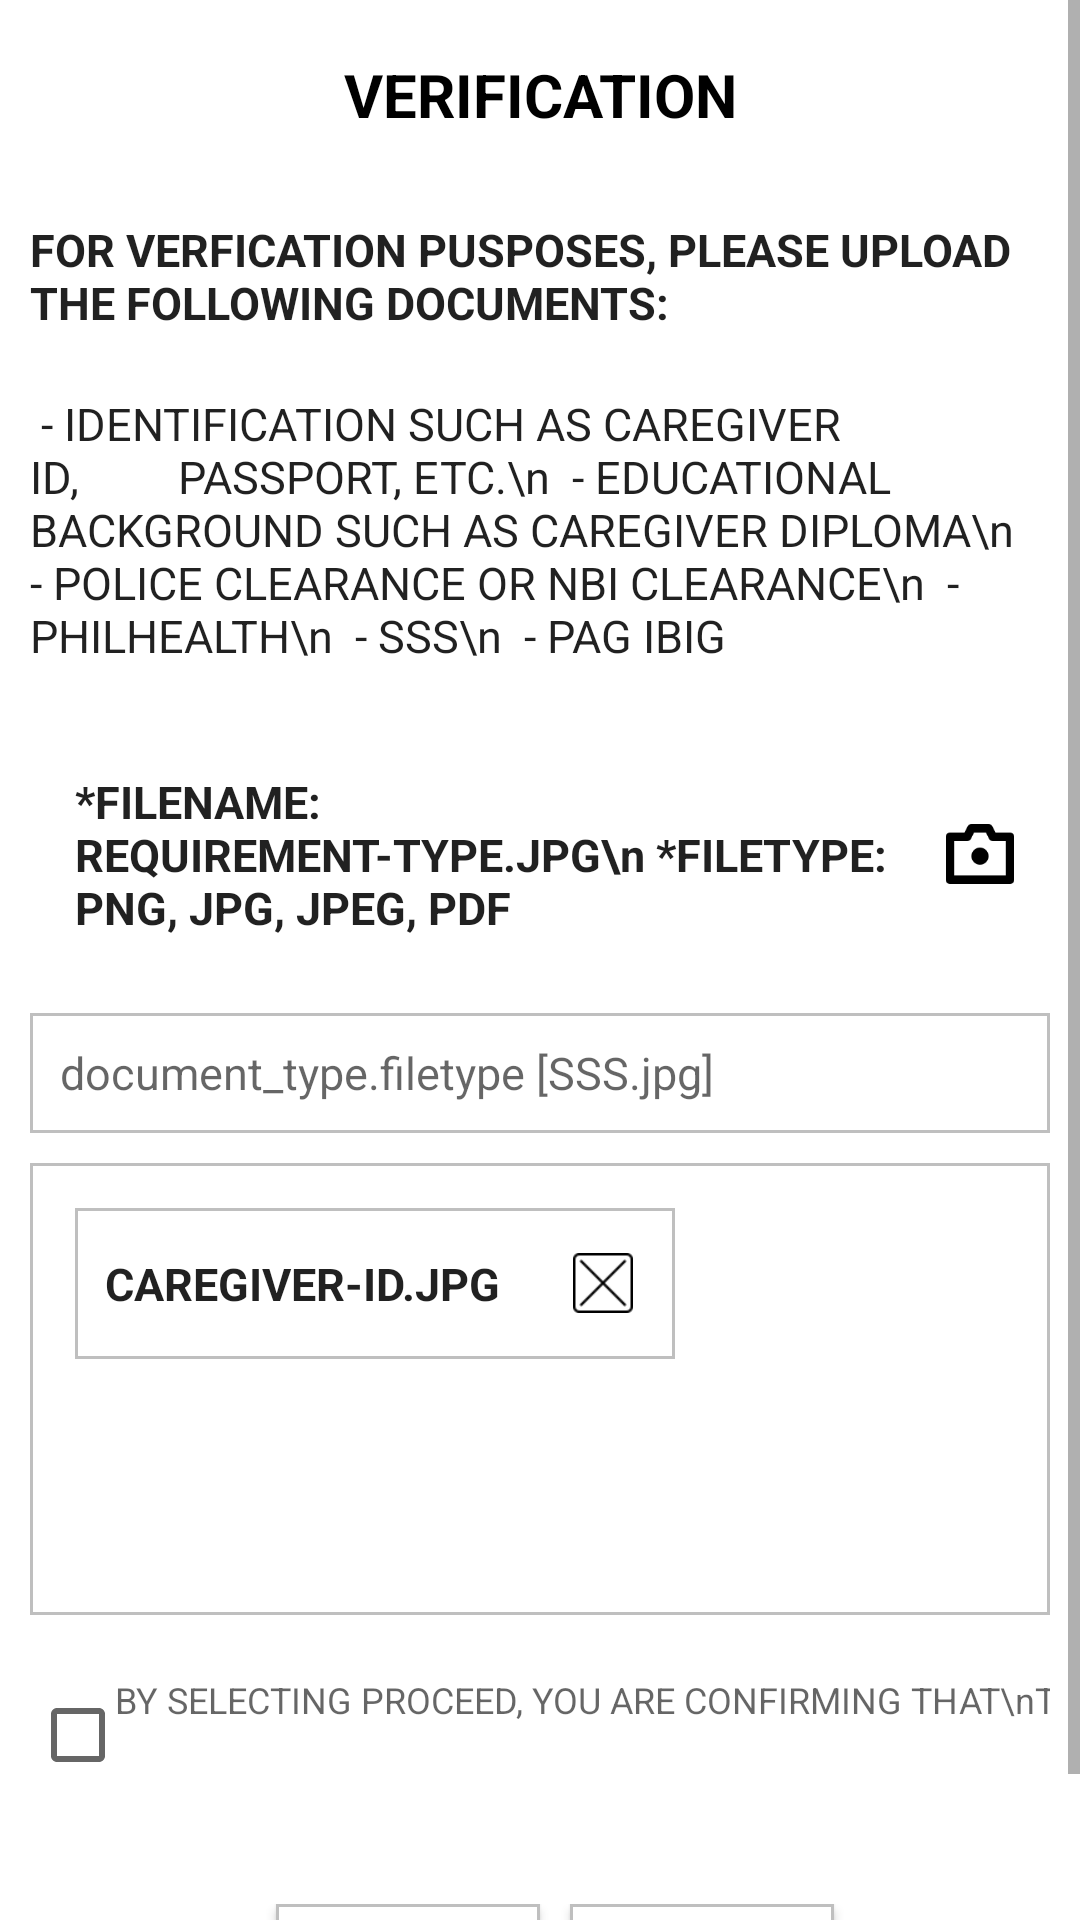

Named icons in this screenshot (1080px×1920px) and their bounding boxes, (x1, y1, x2, y2):
scan: (946, 824, 1014, 884)
